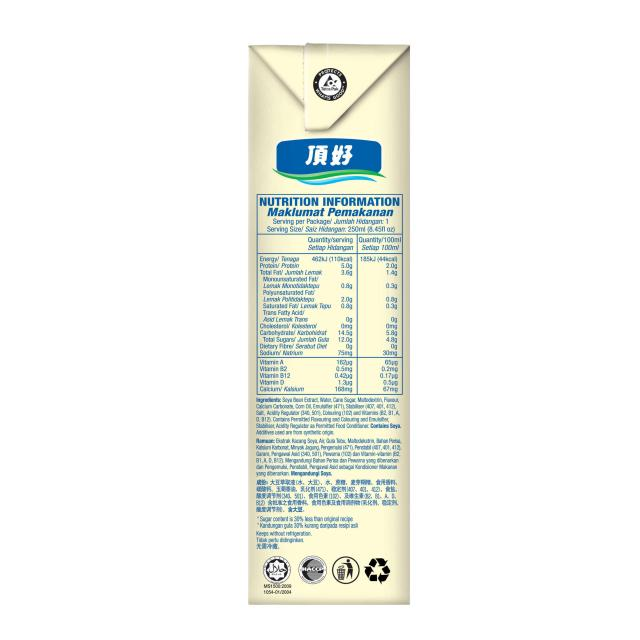drink carton: (244, 37, 413, 611)
